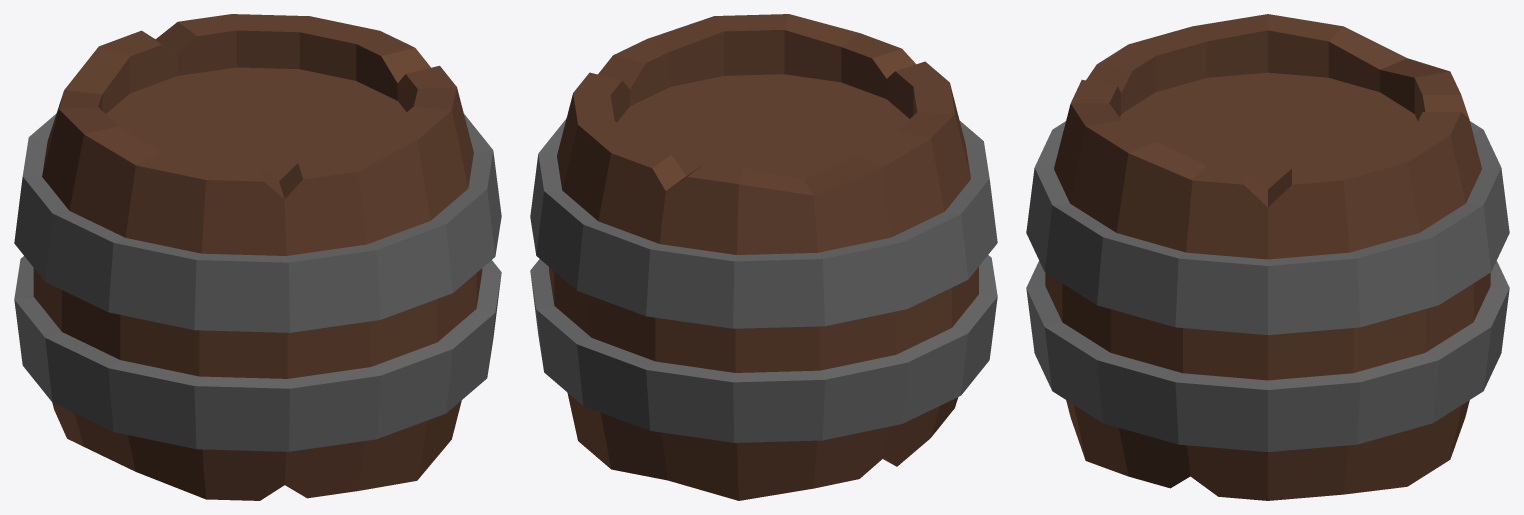
File: Bacva.fbx
3 views of the same model, side by side, from view 1: azimuth 30°, elevation 25°; view 2: azimuth 150°, elevation 25°; view 3: azimuth 270°, elevation 25° (orthographic). The views are drawn at different scales.
Parts seen in each view (by area): view 1: Cylinder; view 2: Cylinder; view 3: Cylinder.
Part boxes in pixels (x1,y1,x2,y2): Cylinder: (14,14,501,500); Cylinder: (530,14,997,500); Cylinder: (1026,14,1509,500).
Size of the model in its own units: 245 by 187 by 245.
1 material, 1 textured.
